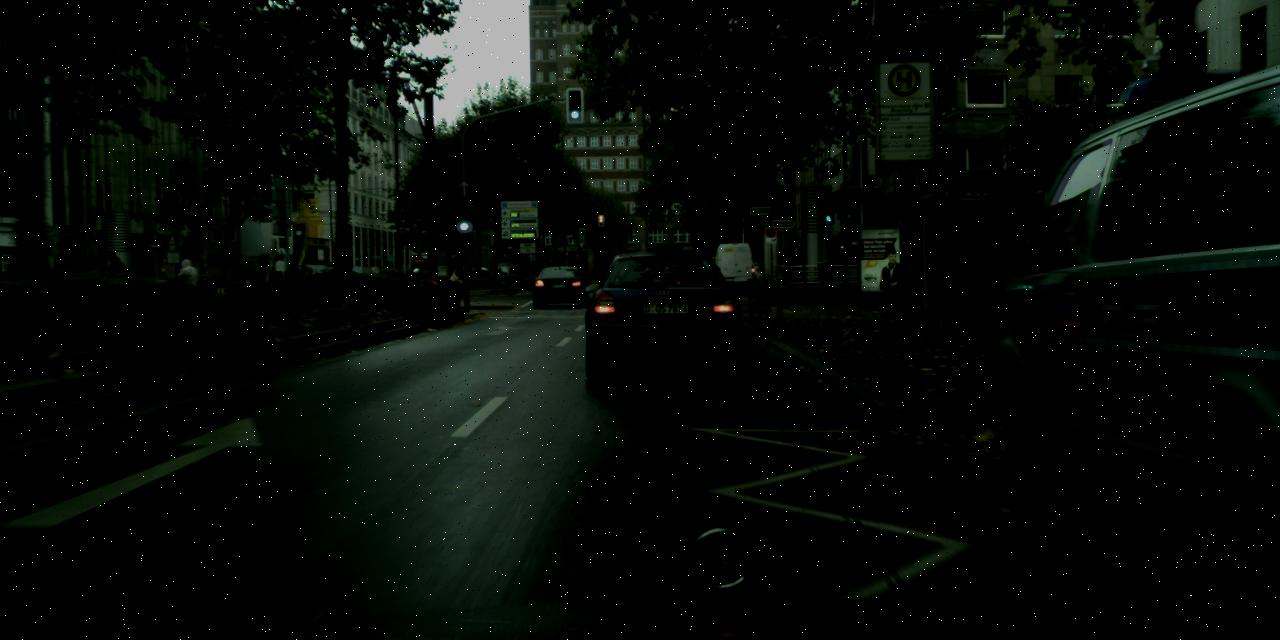ped: (174, 258, 201, 326), (104, 251, 128, 311), (834, 256, 845, 282)
